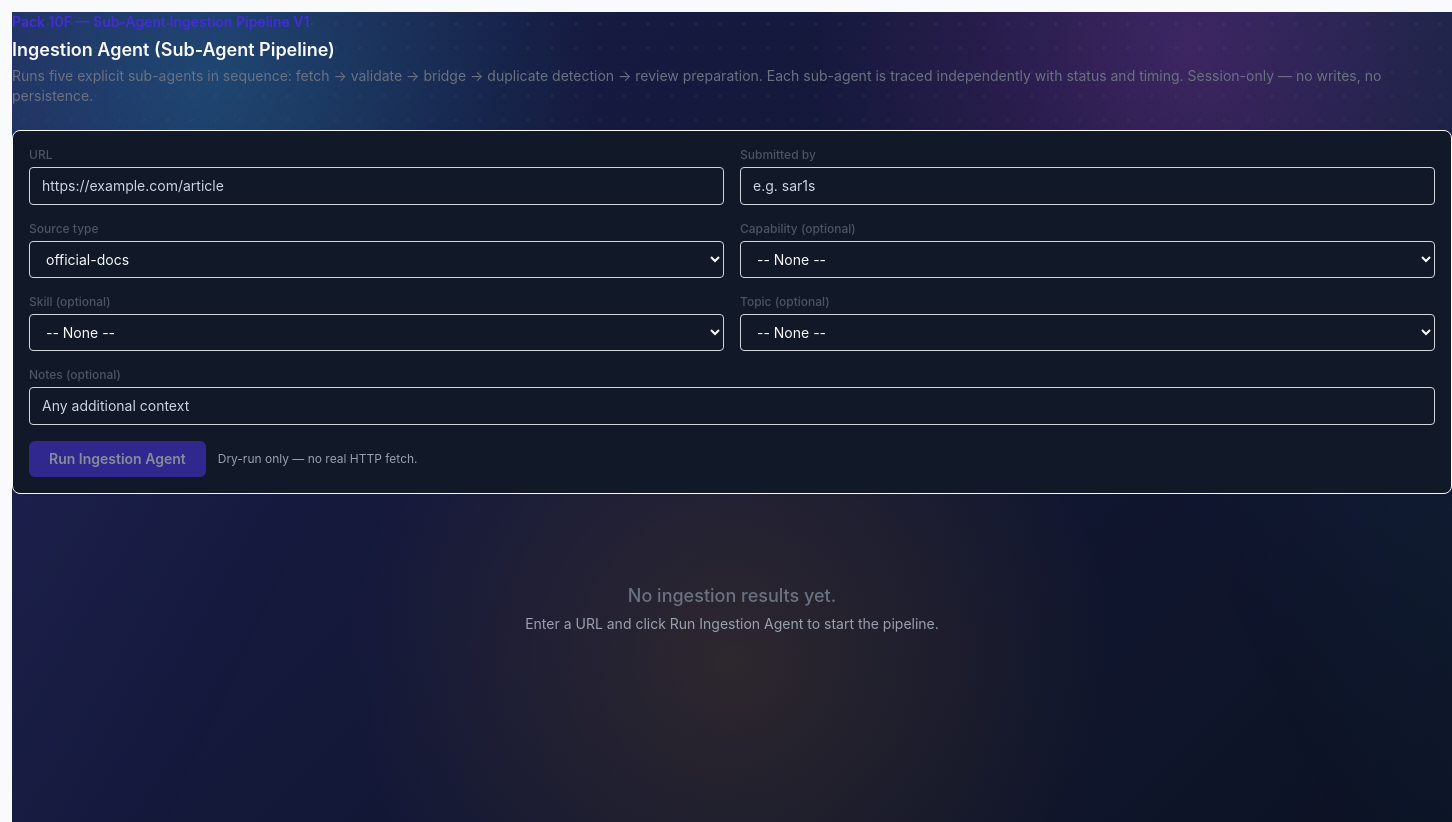
IngestionAgentPreview › Run button is enabled when URL is filled
The image size is (1452, 822).
Type "https://example.com/test" into the field with placeholder "https://example.com/article" at (376, 186), box left=29, top=167, right=724, bottom=205
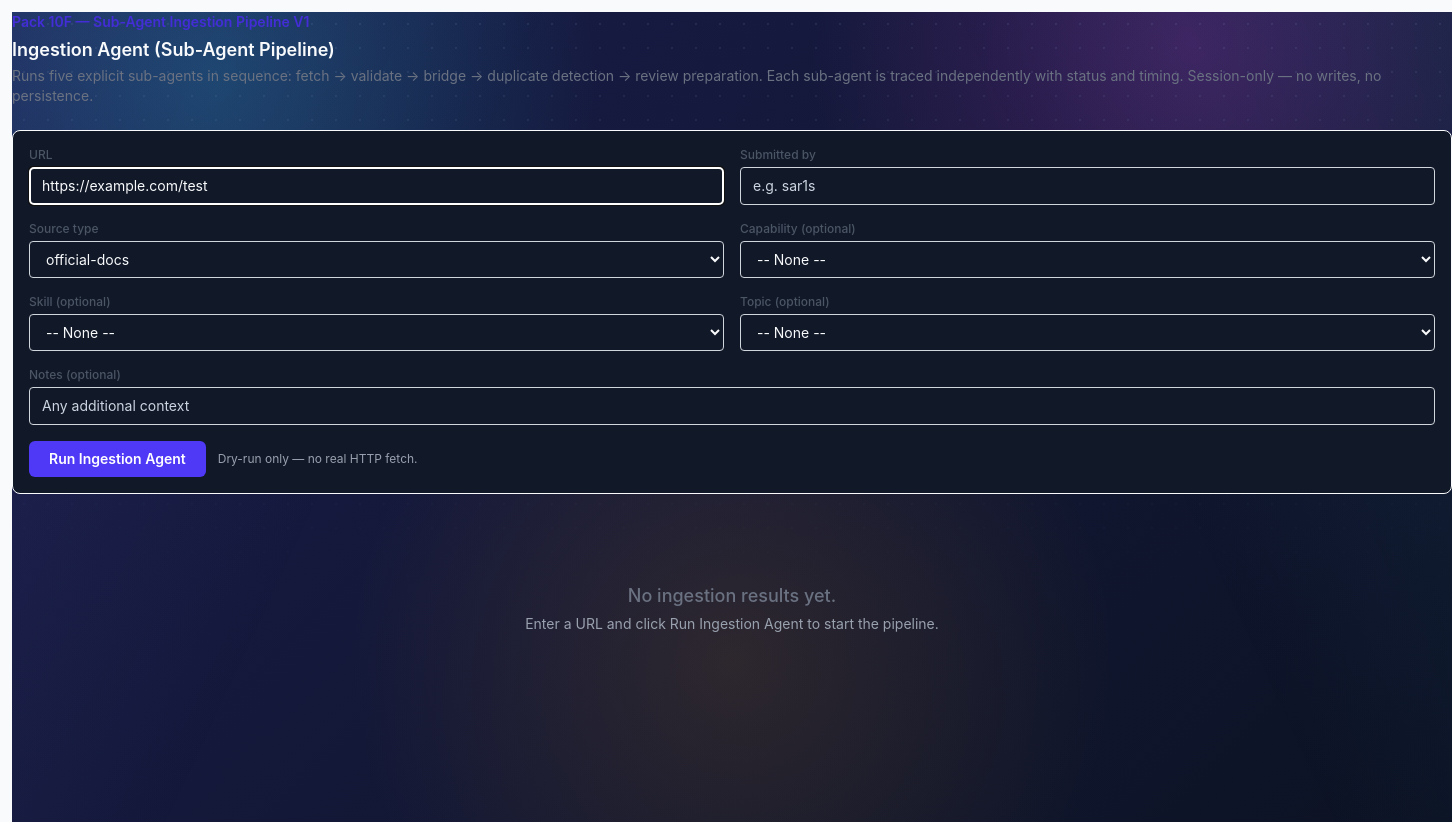
Check: the button "Run Ingestion Agent" is enabled, box left=29, top=441, right=206, bottom=477
